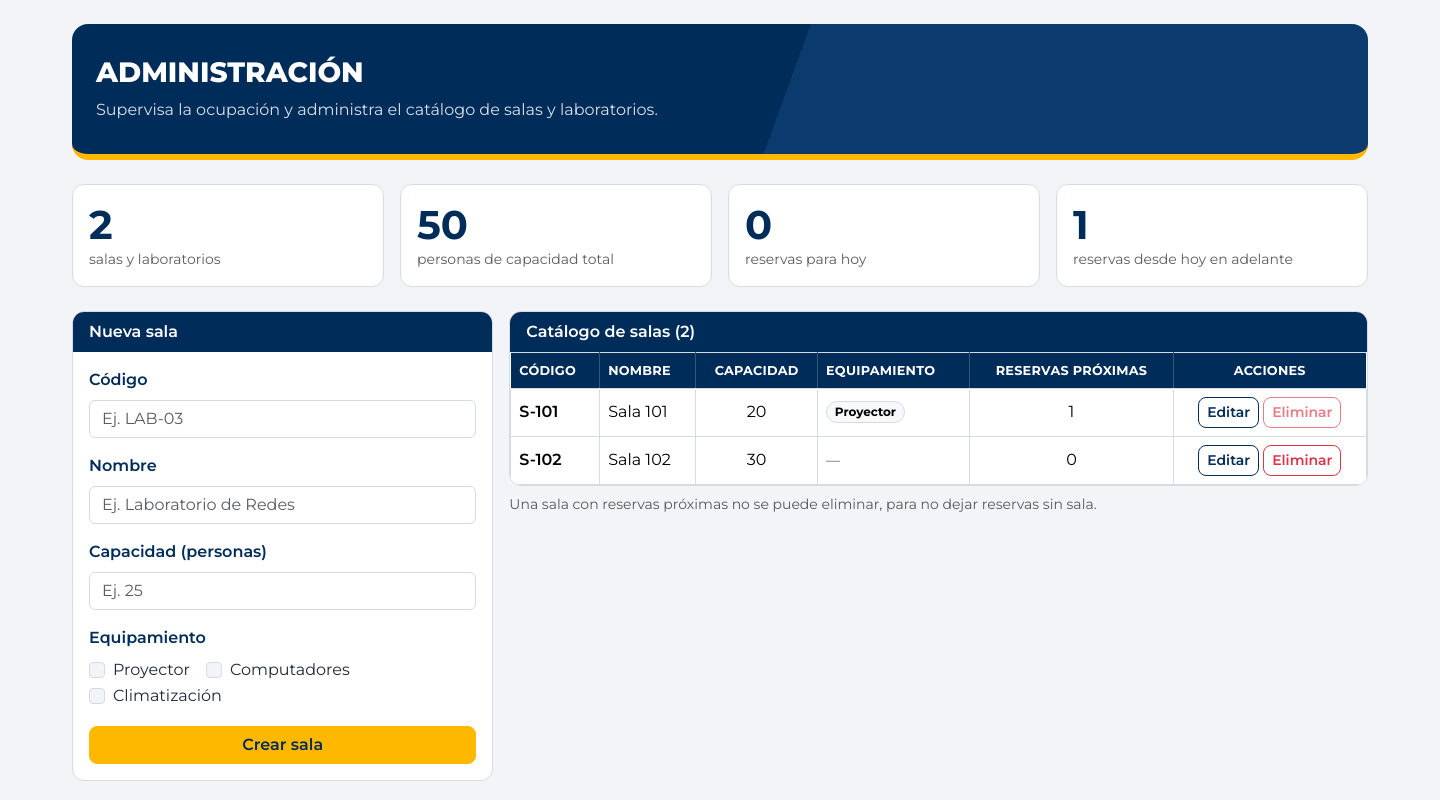
Test case: Página Administración › elimina una sala sin reservas después de confirmar
The image size is (1440, 800).
What coordinates should you click on to do the following:
click the button with aria-label "Eliminar Sala 102"
I would click on:
 (1302, 460)
Its box is [1263, 445, 1341, 476].
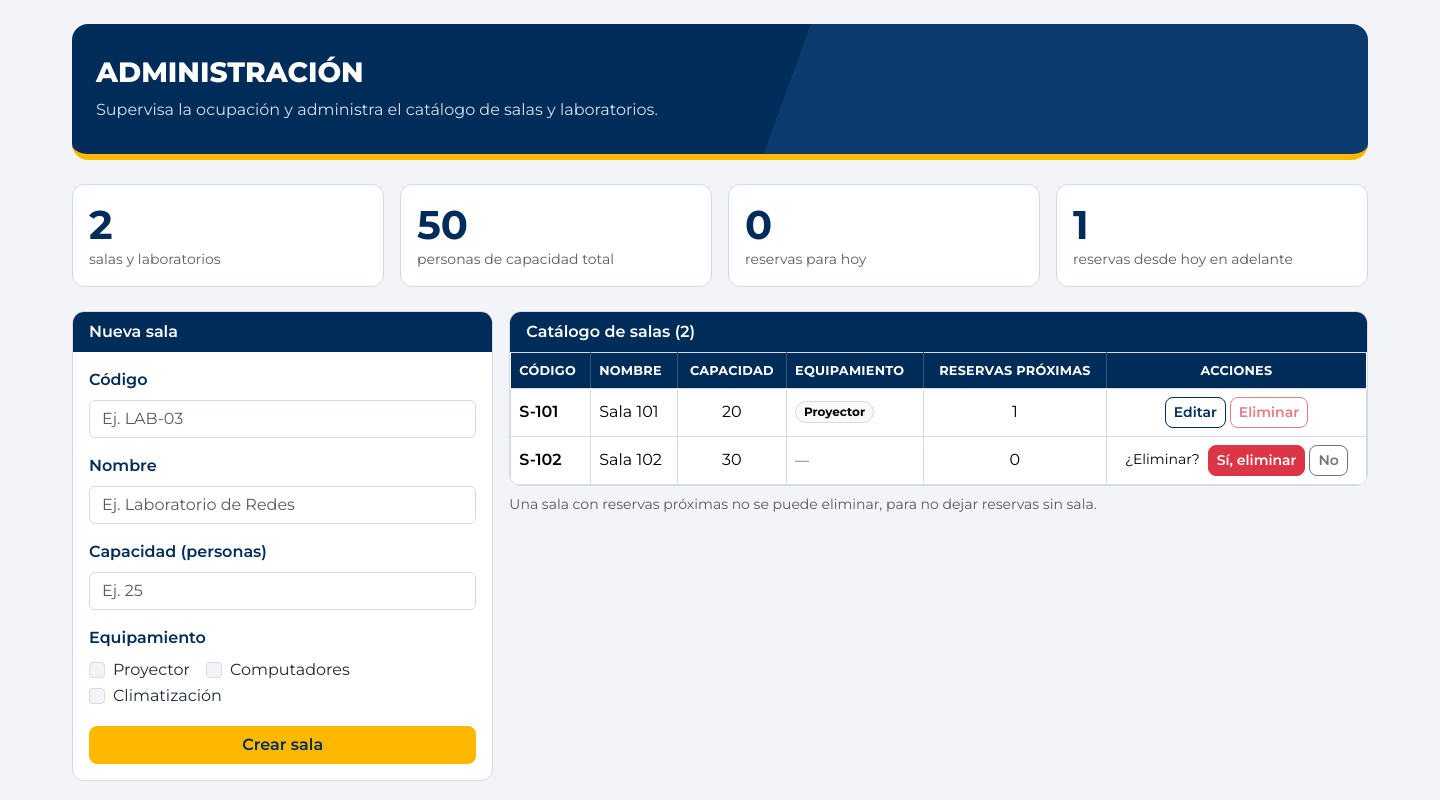
What coordinates should you click on to do the following:
click the button "Sí, eliminar"
I would click on:
 (1257, 460)
Its box is [1208, 445, 1305, 476].
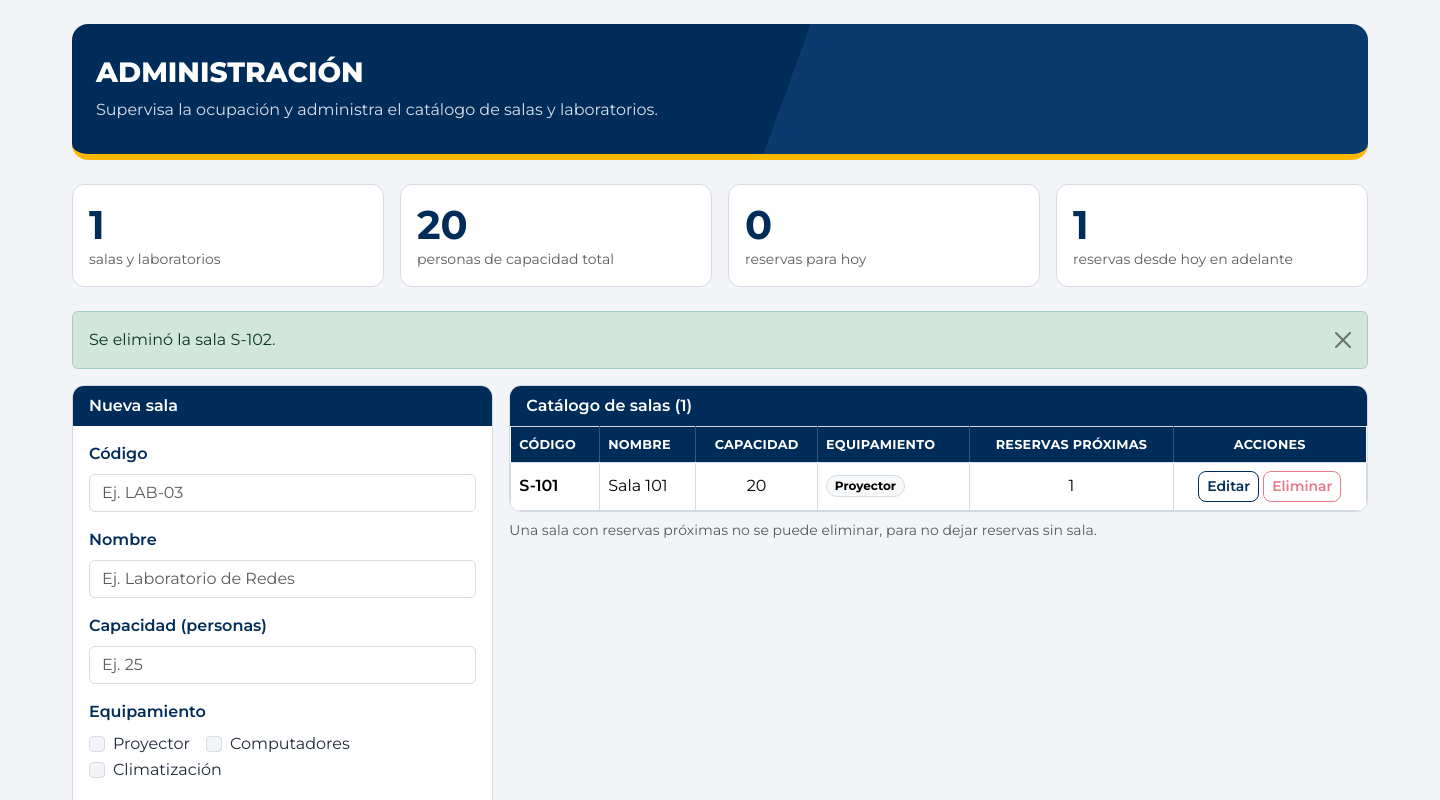
Result: the text "Sala 102" is gone
